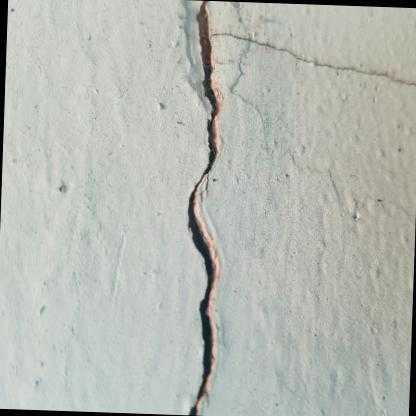crack: (182, 0, 416, 416)
